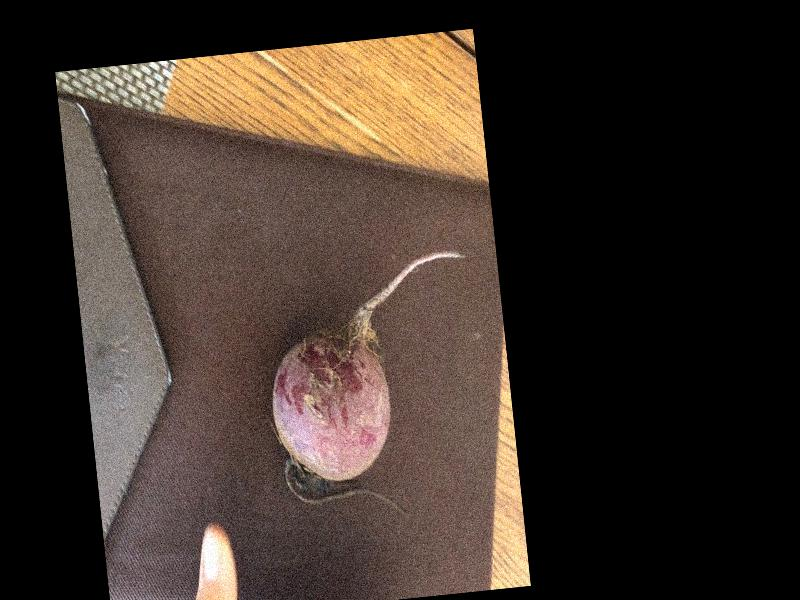Beet: (258, 248, 489, 526)
